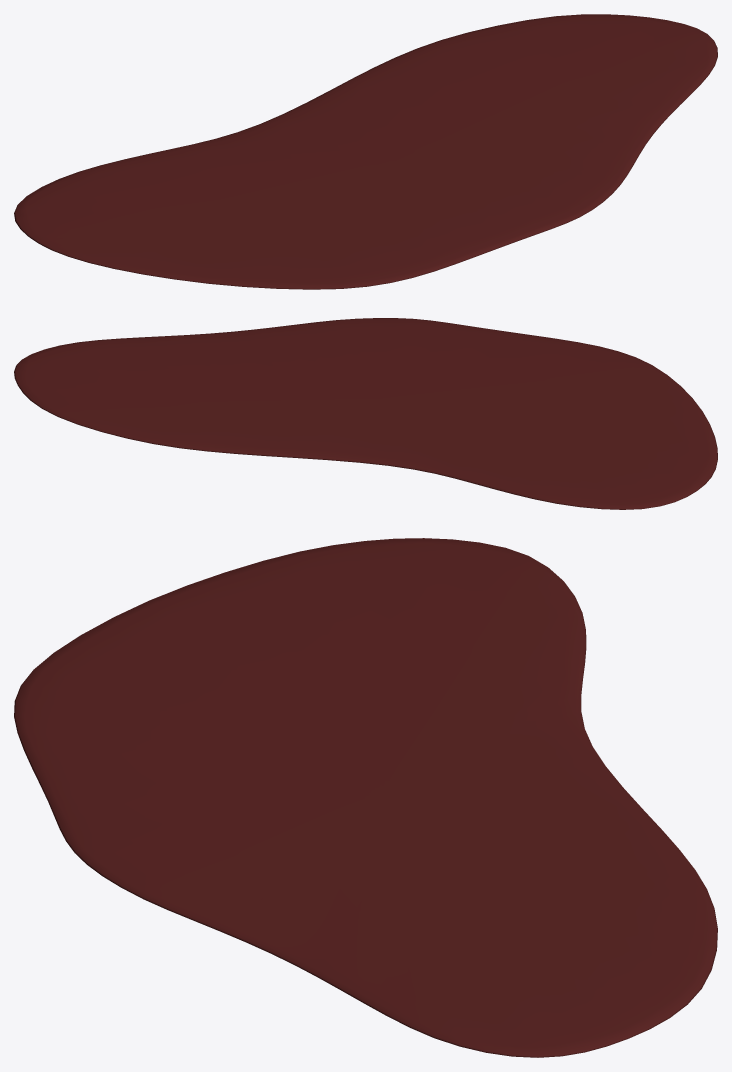
The model's file is blood_1.fbx.
The picture shows the model from 3 angles, top to bottom: view 1: azimuth 30°, elevation 25°; view 2: azimuth 150°, elevation 25°; view 3: azimuth 270°, elevation 25°; orthographic projection. The views are drawn at different scales.
Visible parts, largest first — view 1: Cylinder; view 2: Cylinder; view 3: Cylinder.
Part boxes in pixels (bbox=[...]): Cylinder: bbox=[14, 14, 717, 289]; Cylinder: bbox=[14, 318, 717, 509]; Cylinder: bbox=[14, 538, 717, 1057].
Size of the model in its own units: 144 by 1.1 by 82.46.
